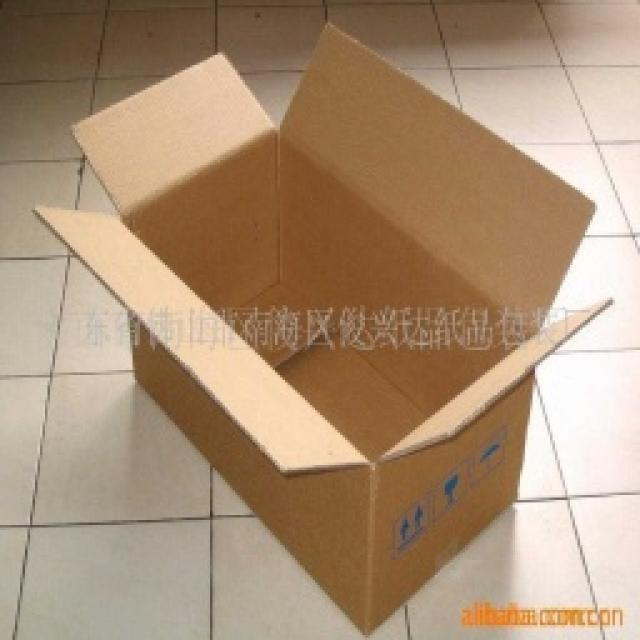box: (19, 38, 580, 600)
